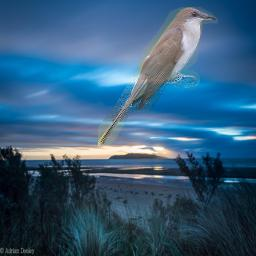Cuckoo: (98, 7, 218, 147)
